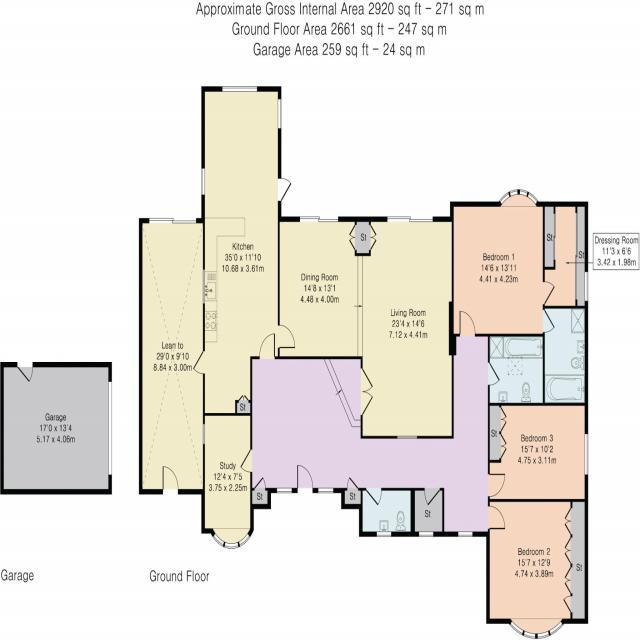DOOR: (162, 466, 179, 495), (459, 310, 476, 337), (488, 505, 506, 530), (278, 324, 296, 349), (297, 465, 313, 493), (488, 473, 506, 497), (259, 333, 275, 359), (278, 177, 292, 202), (543, 280, 556, 306), (192, 350, 205, 376), (542, 309, 556, 333), (488, 361, 501, 386), (424, 488, 440, 506), (366, 488, 382, 506), (240, 449, 252, 473)
ROOM: (277, 216, 454, 439), (192, 86, 295, 416), (449, 188, 555, 336), (486, 499, 588, 639), (488, 403, 589, 502), (201, 413, 254, 550)
WINDOW: (509, 620, 564, 639), (212, 532, 251, 550), (499, 189, 539, 205), (221, 85, 258, 93), (584, 433, 588, 475), (277, 98, 282, 130), (584, 271, 589, 302), (201, 167, 206, 196), (318, 487, 334, 494), (376, 531, 392, 537), (458, 531, 473, 537), (419, 531, 434, 537), (277, 488, 292, 494), (397, 435, 418, 439), (203, 269, 205, 304), (203, 423, 205, 445)
